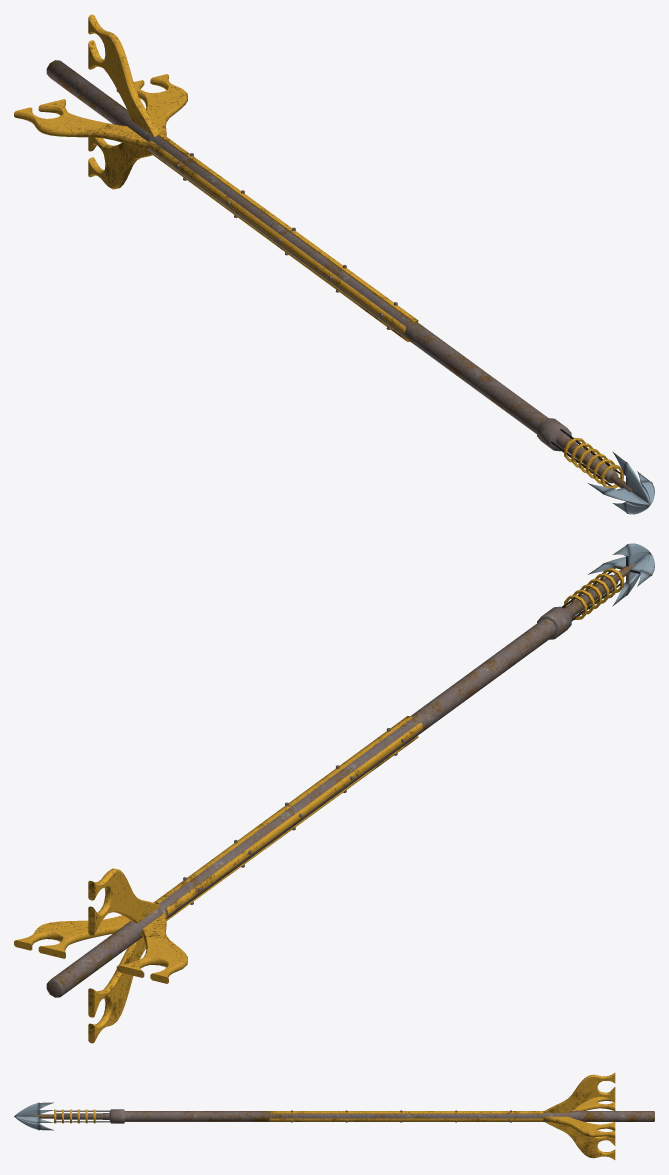
The model's file is metal arrow.fbx.
3 views of the same model, one above another, from view 1: azimuth 30°, elevation 25°; view 2: azimuth 150°, elevation 25°; view 3: azimuth 270°, elevation 25° (orthographic). The views are drawn at different scales.
Visible parts, largest first — view 1: flecha; view 2: flecha; view 3: flecha.
Boxes of the visible parts, x1,y1,x2,y2 form: flecha: [14, 14, 654, 514]; flecha: [14, 543, 654, 1043]; flecha: [14, 1073, 654, 1159].
Size of the model in its own units: 827 by 827 by 5514.
1 material, 1 textured.
